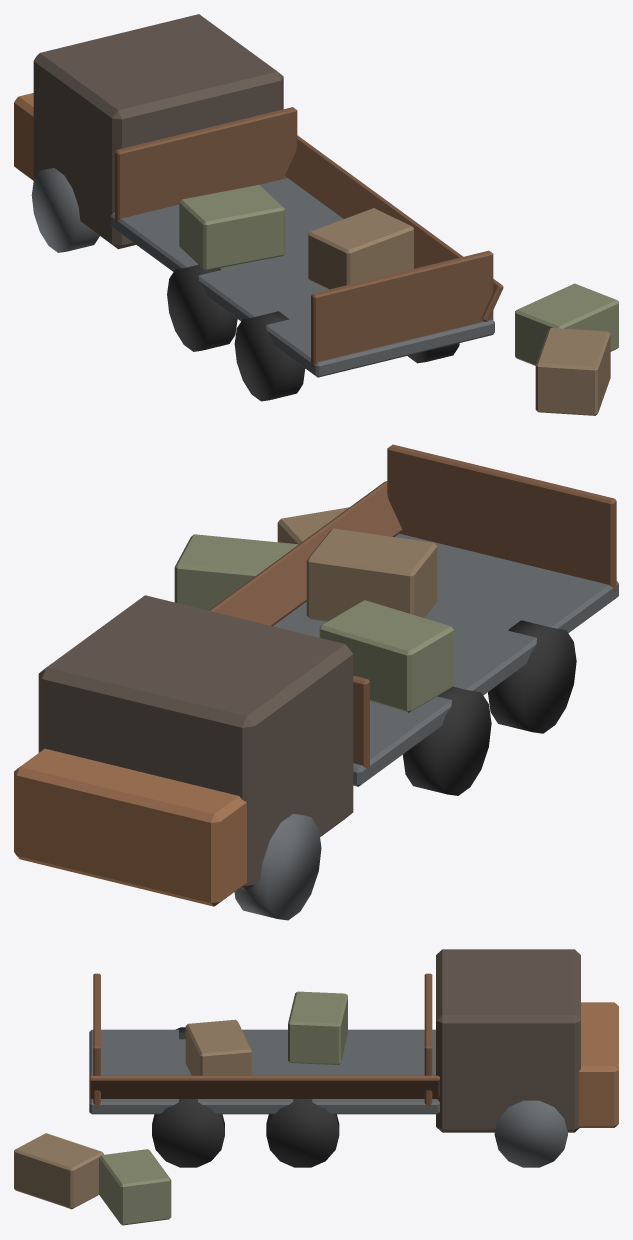
File: v_truck_wreck.glb
The picture shows the model from 3 angles, top to bottom: view 1: azimuth 30°, elevation 25°; view 2: azimuth 150°, elevation 25°; view 3: azimuth 270°, elevation 25°; orthographic projection. The views are drawn at different scales.
Visible parts, largest first — view 1: Truck_wreck; view 2: Truck_wreck; view 3: Truck_wreck.
Boxes of the visible parts, bbox=[...] form: Truck_wreck: bbox=[14, 14, 618, 415]; Truck_wreck: bbox=[14, 444, 618, 920]; Truck_wreck: bbox=[14, 949, 618, 1225].
Size of what is drawn, in the model's own units: 4.15 by 2.15 by 7.94.
